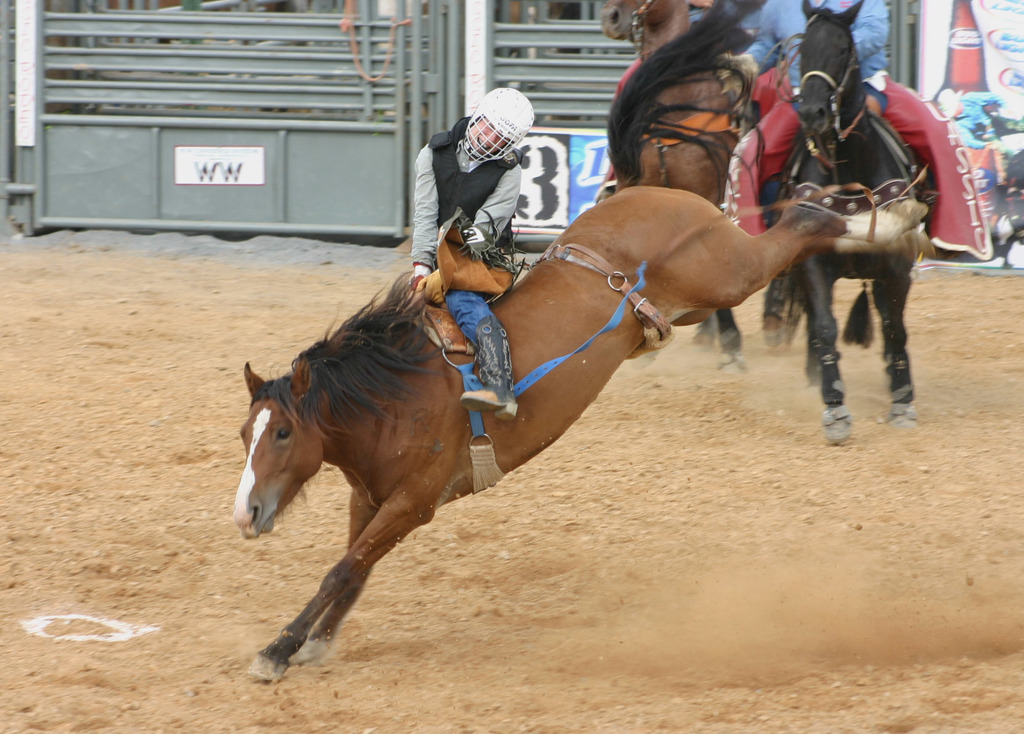Person: (595, 0, 994, 254), (409, 86, 534, 422)
